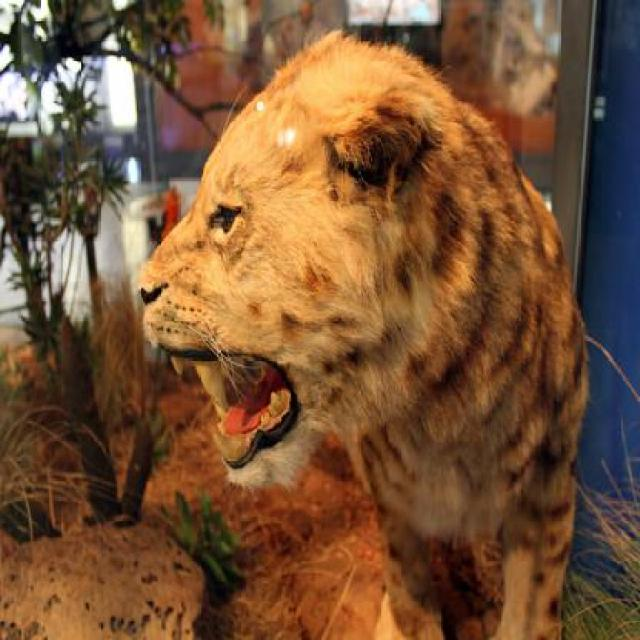Lion: (111, 24, 638, 638)
